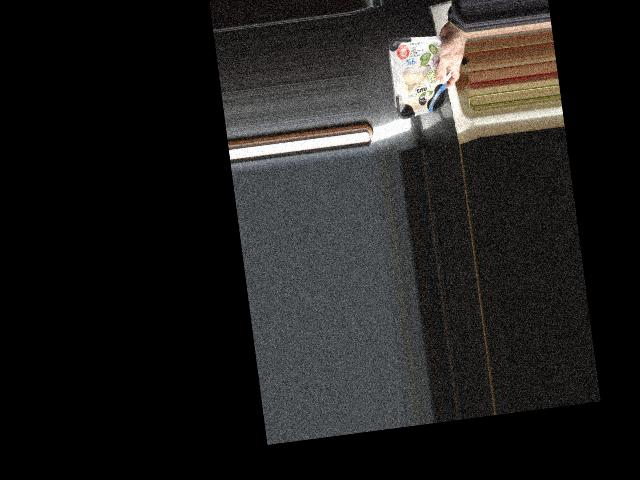cheese: (387, 31, 457, 118)
